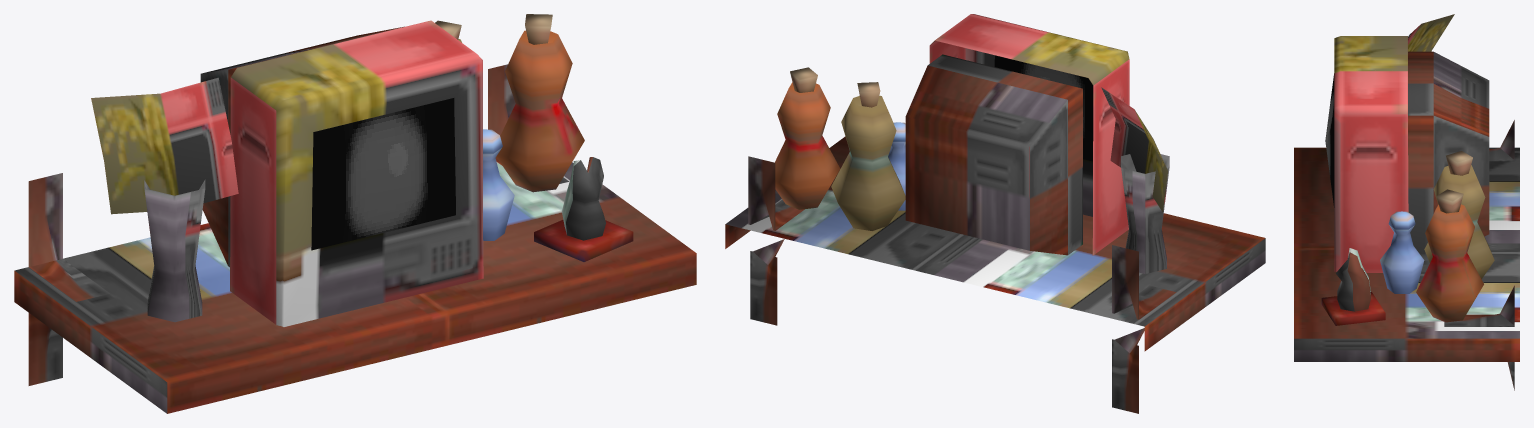
The model's file is int_oth_tv_wall.dae.
3 views of the same model, side by side, from view 1: azimuth 30°, elevation 25°; view 2: azimuth 150°, elevation 25°; view 3: azimuth 270°, elevation 25° (orthographic). The views are drawn at different scales.
Visible parts, largest first — view 1: int_oth_tv_wall; view 2: int_oth_tv_wall; view 3: int_oth_tv_wall.
Boxes of the visible parts, left/top/right/bottom form: int_oth_tv_wall: left=14, top=14, right=696, bottom=413; int_oth_tv_wall: left=725, top=14, right=1265, bottom=413; int_oth_tv_wall: left=1294, top=14, right=1519, bottom=390.
Size of the model in its own units: 51.2 by 31.24 by 25.6.
2 materials, 2 textured.
